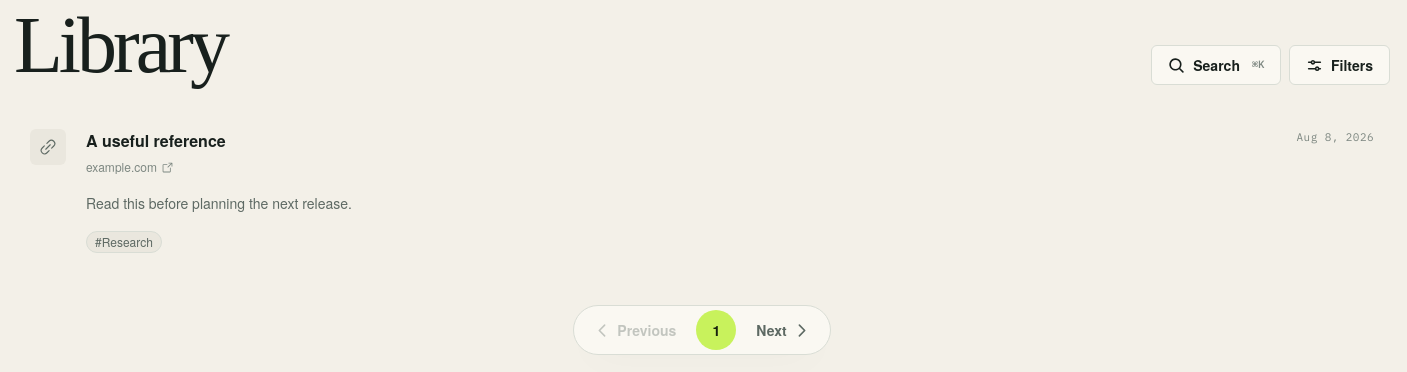
Test: Library data feature › moves between cached five-Item pages
Click the button with aria-label "Next Library page" at (783, 330), box [740,310,826,350]
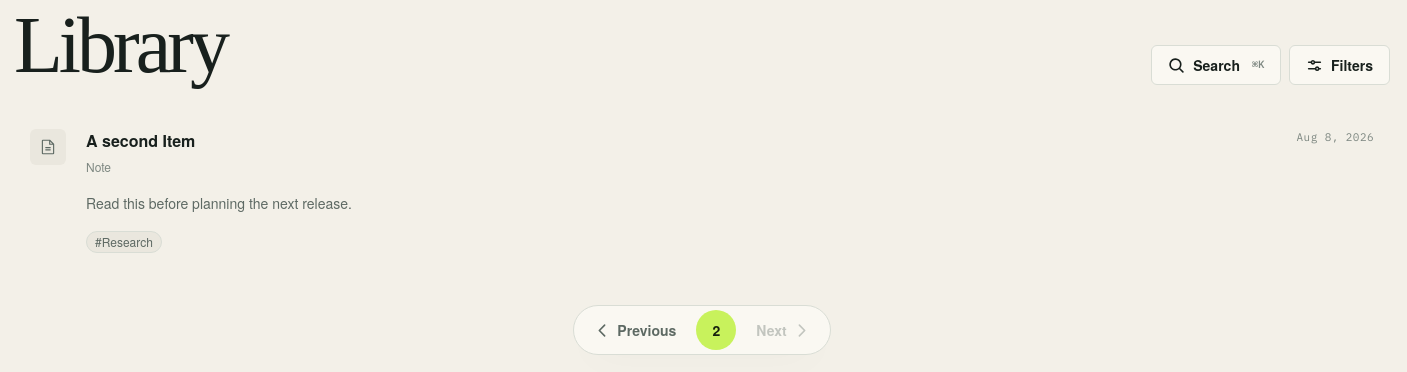
Result: the heading "A second Item" is shown at [86,129,195,153]
Result: the heading "A useful reference" is gone
Result: the text "2" is shown at [696,310,736,350]
Click the button with aria-label "Previous Library page" at (635, 330), box [578,310,692,350]
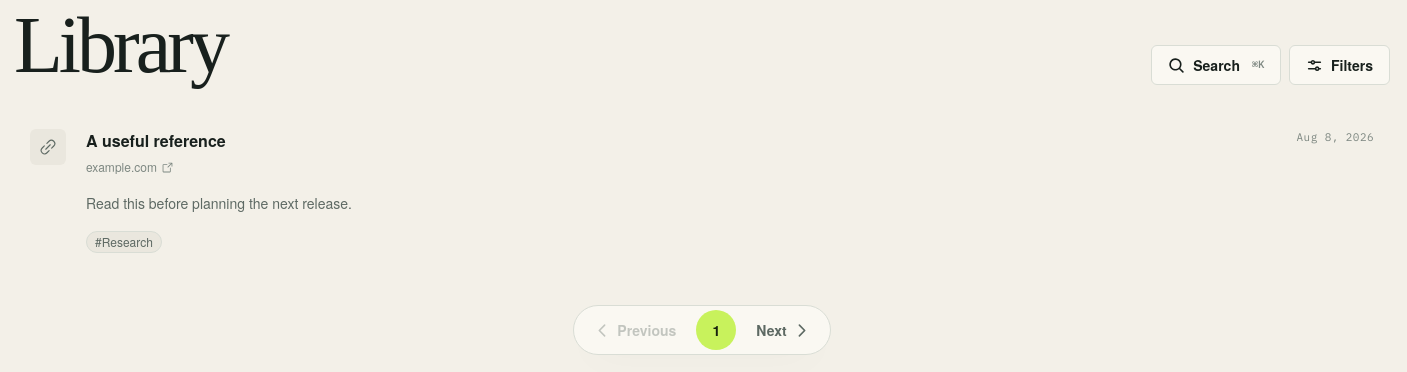
Expected: the text "1" is shown, [696,310,736,350]
Result: the heading "A useful reference" is shown at [86,129,226,153]
Result: the heading "A second Item" is gone
